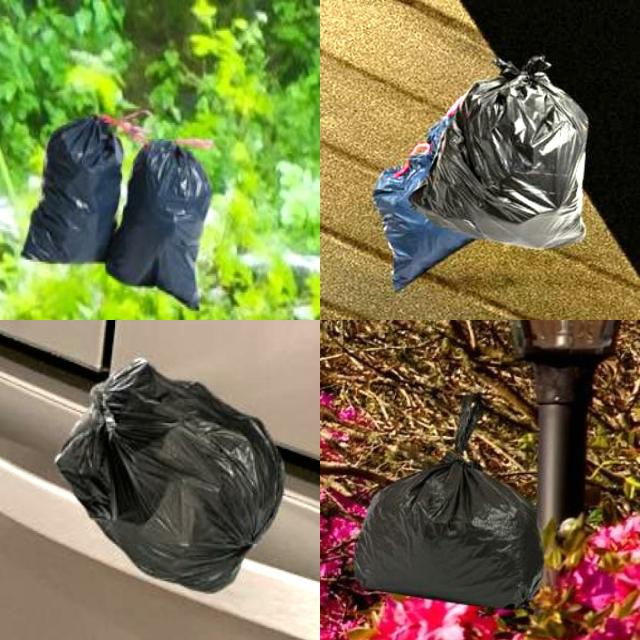Single-layer Plastic: (56, 359, 284, 592), (355, 395, 544, 608), (22, 118, 211, 309), (414, 56, 589, 248), (22, 116, 122, 263)
